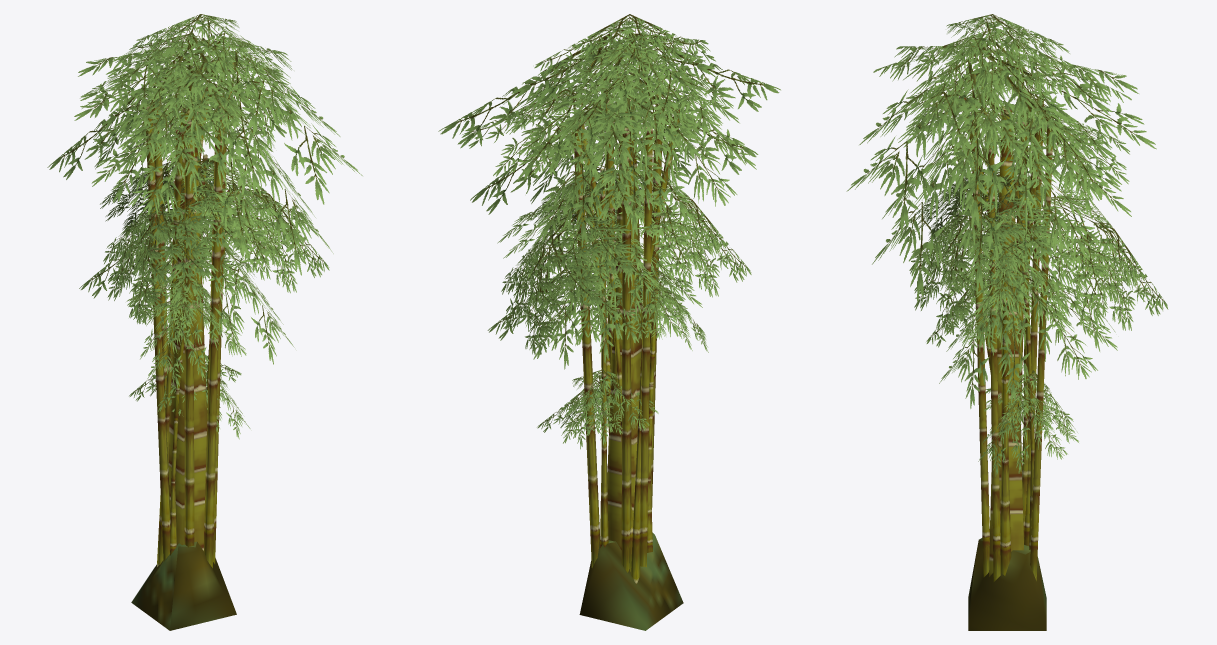
Rendered from bamboo_1.glb.
The picture shows the model from 3 angles, left to right: view 1: azimuth 30°, elevation 25°; view 2: azimuth 150°, elevation 25°; view 3: azimuth 270°, elevation 25°; orthographic projection. The views are drawn at different scales.
Parts seen in each view (by area): view 1: bamboo_1; view 2: bamboo_1; view 3: bamboo_1.
Part boxes in pixels (x1=…): bamboo_1: x1=47, y1=14, x2=362, y2=630; bamboo_1: x1=438, y1=14, x2=780, y2=630; bamboo_1: x1=846, y1=14, x2=1168, y2=630.
Size of the model in its own units: 5.88 by 11.13 by 6.25.
Materials: 1 (1 with a texture image).
